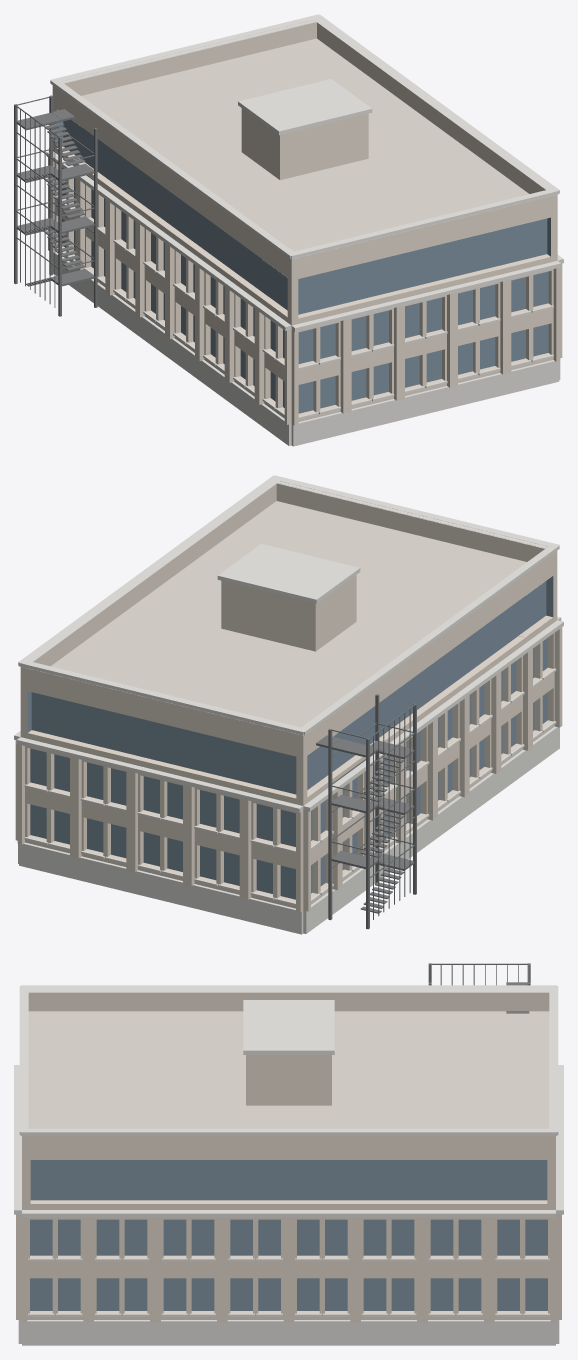
The model's file is East_Block.fbx.
The picture shows the model from 3 angles, top to bottom: view 1: azimuth 30°, elevation 25°; view 2: azimuth 150°, elevation 25°; view 3: azimuth 270°, elevation 25°; orthographic projection. The views are drawn at different scales.
Parts seen in each view (by area): view 1: East_Block; view 2: East_Block; view 3: East_Block.
Part boxes in pixels (x1,y1,x2,y2): East_Block: (14,14,563,446); East_Block: (14,475,563,934); East_Block: (14,963,563,1345).
Size of the model in its own units: 21.8 by 14.25 by 28.84.
